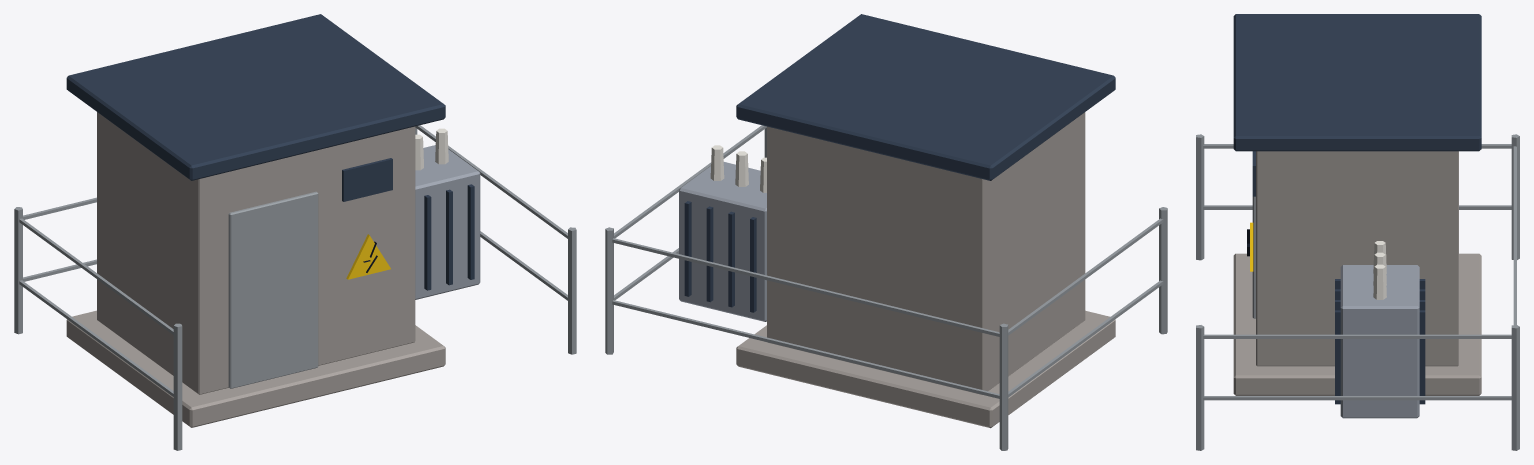
Rendered from gardu_listrik_v001.glb.
The picture shows the model from 3 angles, left to right: view 1: azimuth 30°, elevation 25°; view 2: azimuth 150°, elevation 25°; view 3: azimuth 270°, elevation 25°; orthographic projection.
Parts seen in each view (by area): view 1: Gardu_Listrik; view 2: Gardu_Listrik; view 3: Gardu_Listrik.
Boxes of the visible parts, bbox=[...] form: Gardu_Listrik: bbox=[14, 14, 576, 450]; Gardu_Listrik: bbox=[605, 14, 1167, 450]; Gardu_Listrik: bbox=[1196, 14, 1519, 450].
Bounding box in the file's own units: 4.08 × 2.55 × 2.87.
